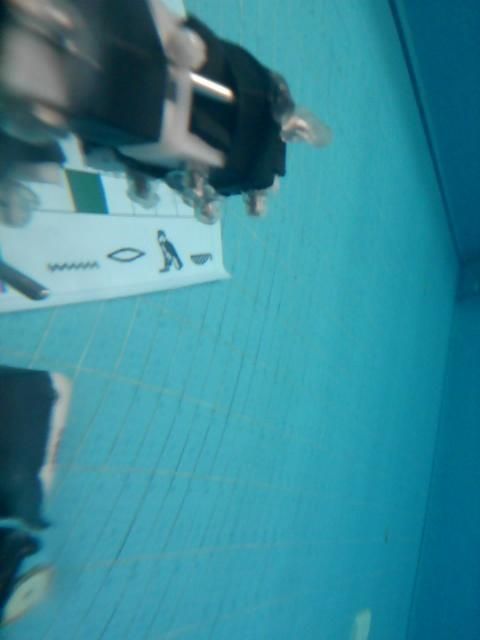Basket: (188, 251, 214, 266)
Mouth: (107, 247, 147, 263)
Owl: (152, 229, 185, 272)
Water: (44, 259, 102, 274)
